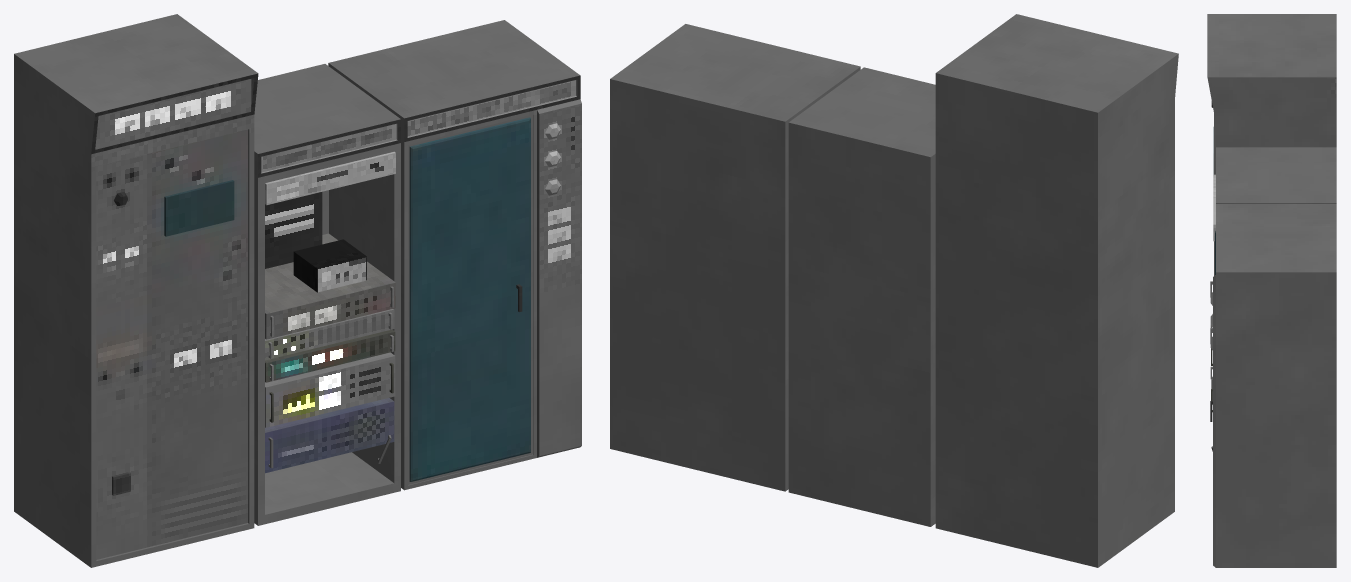
The model's file is Server.glb.
3 views of the same model, side by side, from view 1: azimuth 30°, elevation 25°; view 2: azimuth 150°, elevation 25°; view 3: azimuth 270°, elevation 25° (orthographic). The views are drawn at different scales.
Visible parts, largest first — view 1: Servers-col; view 2: Servers-col; view 3: Servers-col.
Part boxes in pixels (<box>): Servers-col: <box>14,14,581,567</box>; Servers-col: <box>610,14,1178,567</box>; Servers-col: <box>1207,14,1336,567</box>.
Size of the model in its own units: 2.31 by 2.06 by 0.6621.
Materials: 1 (1 with a texture image).
